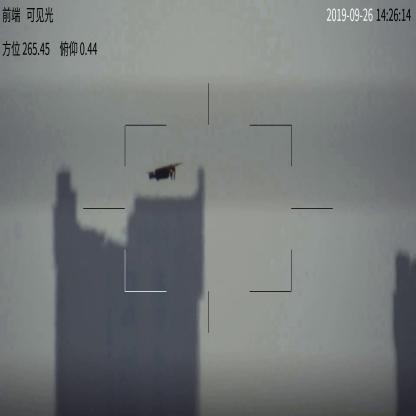uav: (140, 160, 182, 181)
